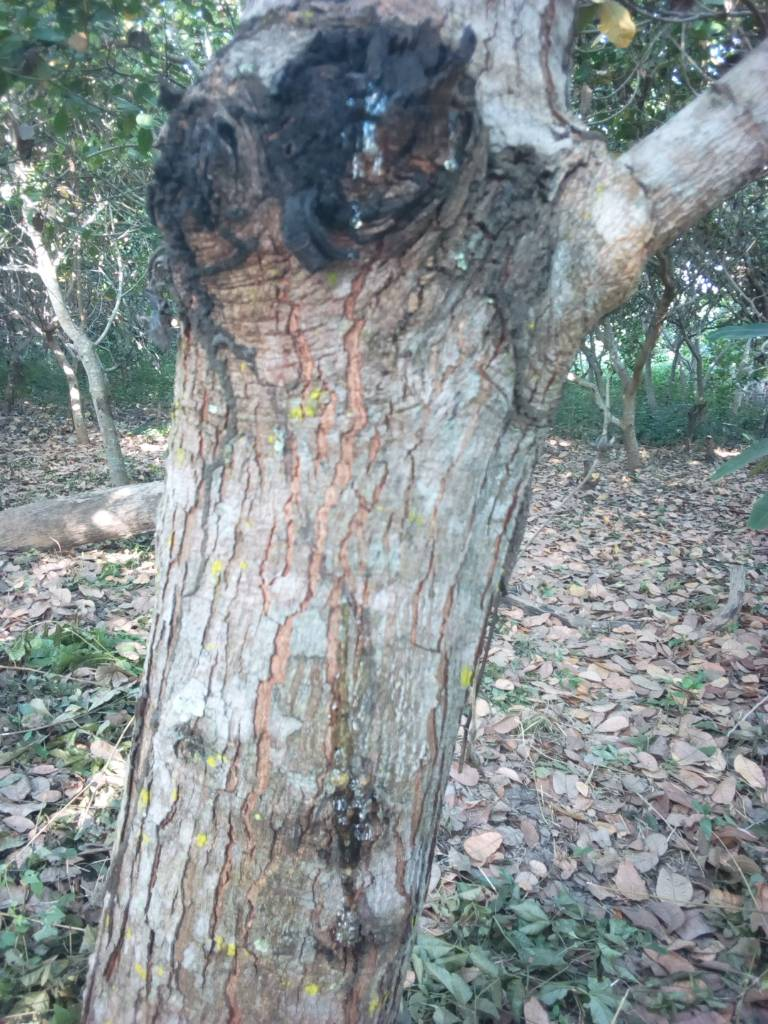ploceadorus ferrugineus: (237, 1, 535, 286)
